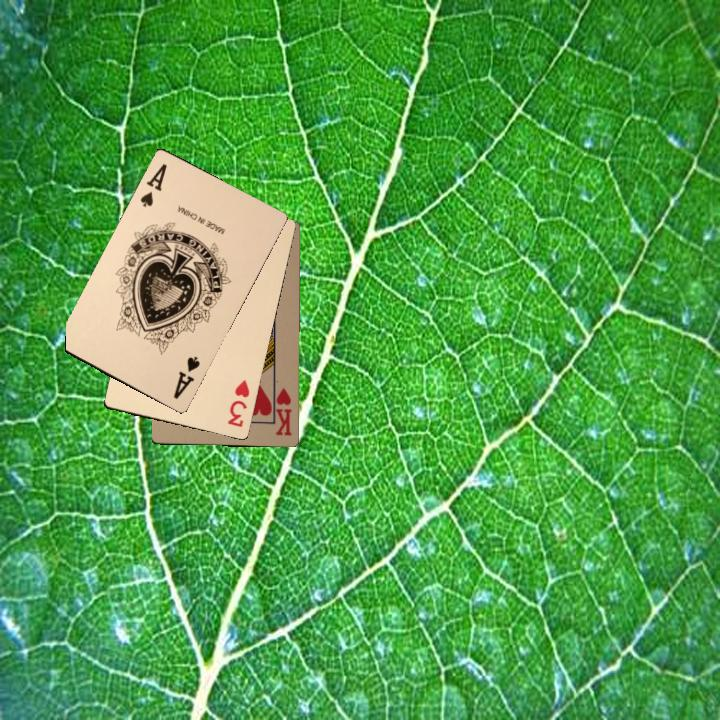3h: (223, 375, 252, 430)
As: (169, 352, 202, 402), (136, 159, 169, 209)
Kh: (269, 384, 294, 438)
